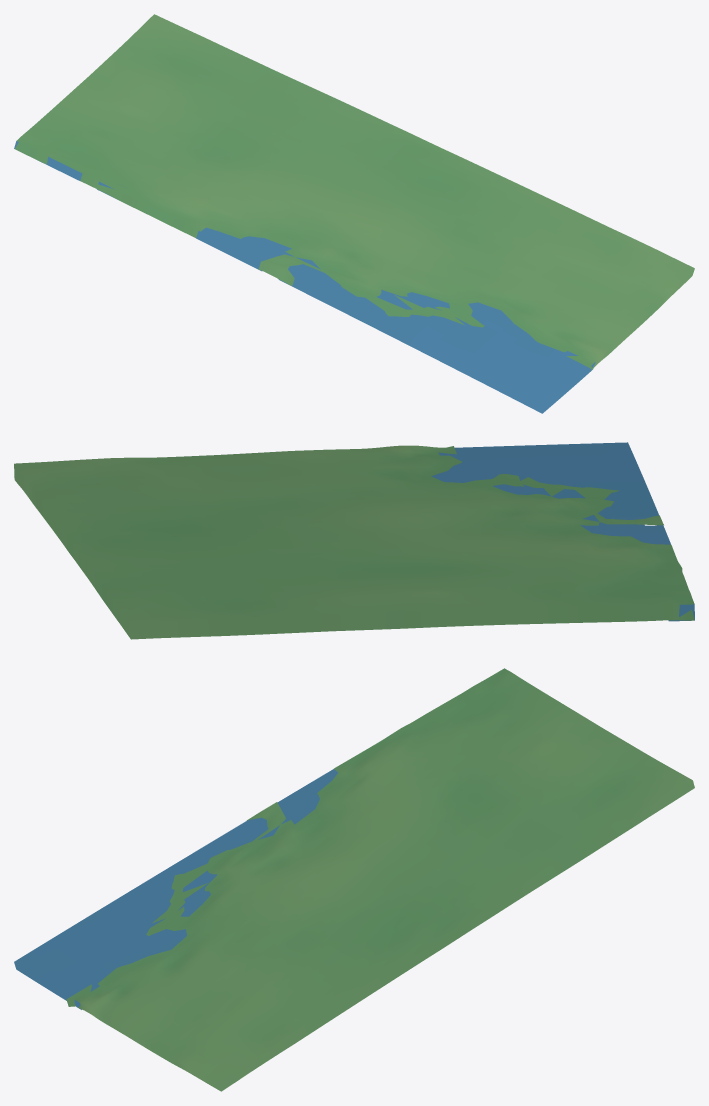
The picture shows the model from 3 angles, top to bottom: view 1: azimuth 30°, elevation 25°; view 2: azimuth 150°, elevation 25°; view 3: azimuth 270°, elevation 25°; orthographic projection. The views are drawn at different scales.
Parts seen in each view (by area): view 1: geometry_0, geometry_1; view 2: geometry_0, geometry_1; view 3: geometry_0, geometry_1.
Part boxes in pixels (box(x1,y1,x2,y2)): geometry_0: box(15, 14, 694, 370); geometry_1: box(14, 141, 595, 413); geometry_0: box(14, 445, 694, 639); geometry_1: box(431, 442, 694, 621); geometry_0: box(66, 668, 694, 1091); geometry_1: box(14, 769, 338, 1009).
Size of the model in its own units: 158691 by 46734 by 173994.
